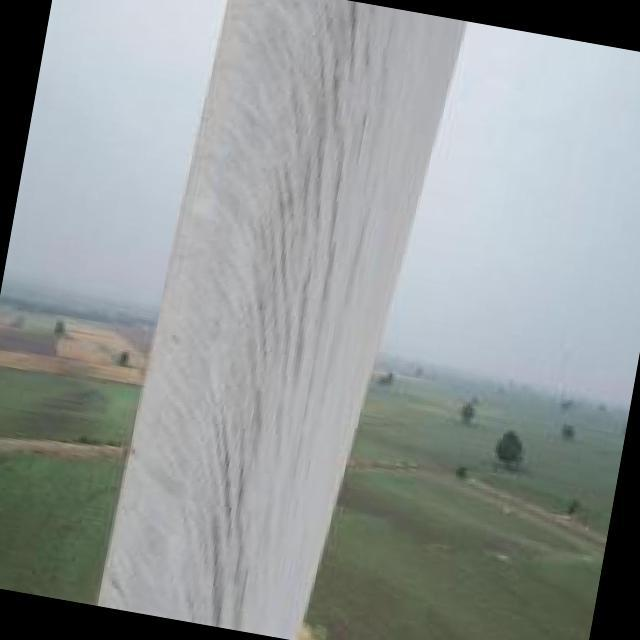Dirt: (98, 0, 411, 640)
